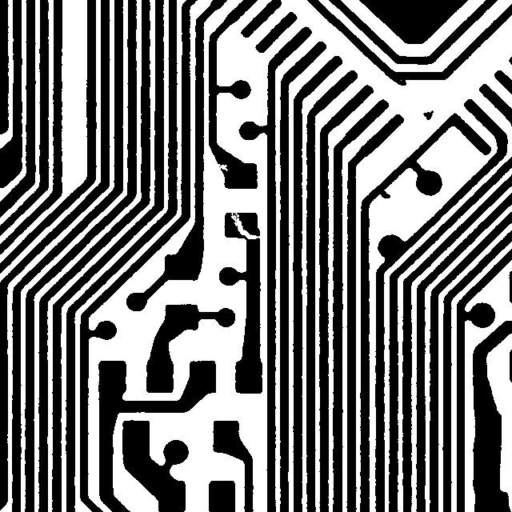copper: (415, 102, 441, 127)
mousebite: (209, 156, 235, 178)
open: (223, 202, 269, 246)
spur: (385, 67, 414, 93), (370, 182, 398, 206)
